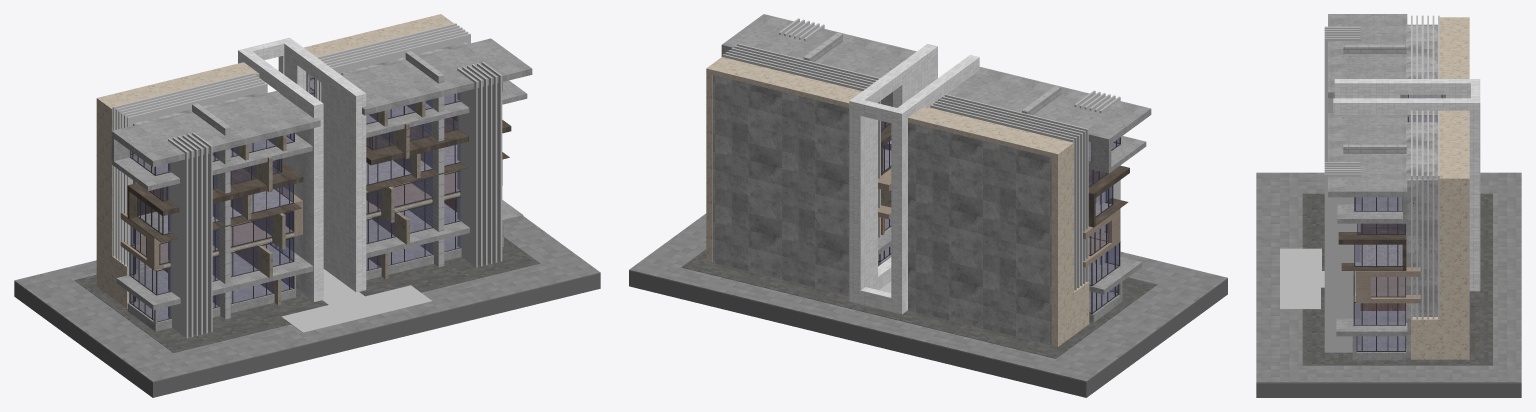
Rendered from apartment.gltf.
The picture shows the model from 3 angles, left to right: view 1: azimuth 30°, elevation 25°; view 2: azimuth 150°, elevation 25°; view 3: azimuth 270°, elevation 25°; orthographic projection. The views are drawn at different scales.
Visible parts, largest first — view 1: Line002, Box020, Rectangle002, Line033, Box042, Box069, Box068, Rectangle001, Line001, Box028, Line012, Shape021 (+4 smaller); view 2: Box026, Rectangle002, Line002, Line033, Box068, Box069, Box020, Rectangle001, Box042, Line001, Line005, Shape021 (+1 smaller); view 3: Rectangle002, Line002, Box068, Box020, Line033, Rectangle001, Box026, Box042, Box069, Line034, Line005, Line001 (+4 smaller).
Boxes of the visible parts, bbox=[...] form: Line002: bbox=[111, 38, 532, 331]; Box020: bbox=[112, 23, 502, 338]; Rectangle002: bbox=[14, 216, 600, 382]; Line033: bbox=[238, 37, 366, 301]; Box042: bbox=[130, 75, 460, 320]; Box069: bbox=[14, 273, 600, 397]; Box068: bbox=[96, 14, 453, 308]; Rectangle001: bbox=[74, 237, 539, 352]; Line001: bbox=[127, 117, 511, 242]; Box028: bbox=[192, 51, 444, 319]; Line012: bbox=[230, 101, 425, 304]; Shape021: bbox=[129, 74, 502, 322]; Box026: bbox=[713, 75, 1051, 344]; Rectangle002: bbox=[629, 213, 1227, 381]; Line002: bbox=[721, 14, 1151, 322]; Line033: bbox=[849, 44, 979, 314]; Box068: bbox=[706, 57, 1089, 346]; Box069: bbox=[629, 270, 1227, 397]; Box020: bbox=[722, 18, 1120, 291]; Rectangle001: bbox=[681, 249, 1157, 358]; Box042: bbox=[878, 121, 1119, 312]; Line001: bbox=[881, 121, 1129, 227]; Line005: bbox=[878, 168, 1119, 267]; Shape021: bbox=[878, 122, 1120, 313]; Rectangle002: bbox=[1256, 172, 1521, 382]; Line002: bbox=[1328, 14, 1407, 360]; Box068: bbox=[1411, 17, 1469, 359]; Box020: bbox=[1324, 15, 1439, 352]; Line033: bbox=[1333, 79, 1480, 291]; Rectangle001: bbox=[1302, 193, 1492, 365]; Box026: bbox=[1406, 24, 1445, 356]; Box042: bbox=[1355, 95, 1441, 350]; Box069: bbox=[1256, 383, 1521, 397]; Line034: bbox=[1280, 248, 1324, 309]; Line005: bbox=[1356, 267, 1420, 303]; Line001: bbox=[1338, 224, 1406, 270].
Size of the model in its own units: 68.3 by 31.03 by 36.58.
